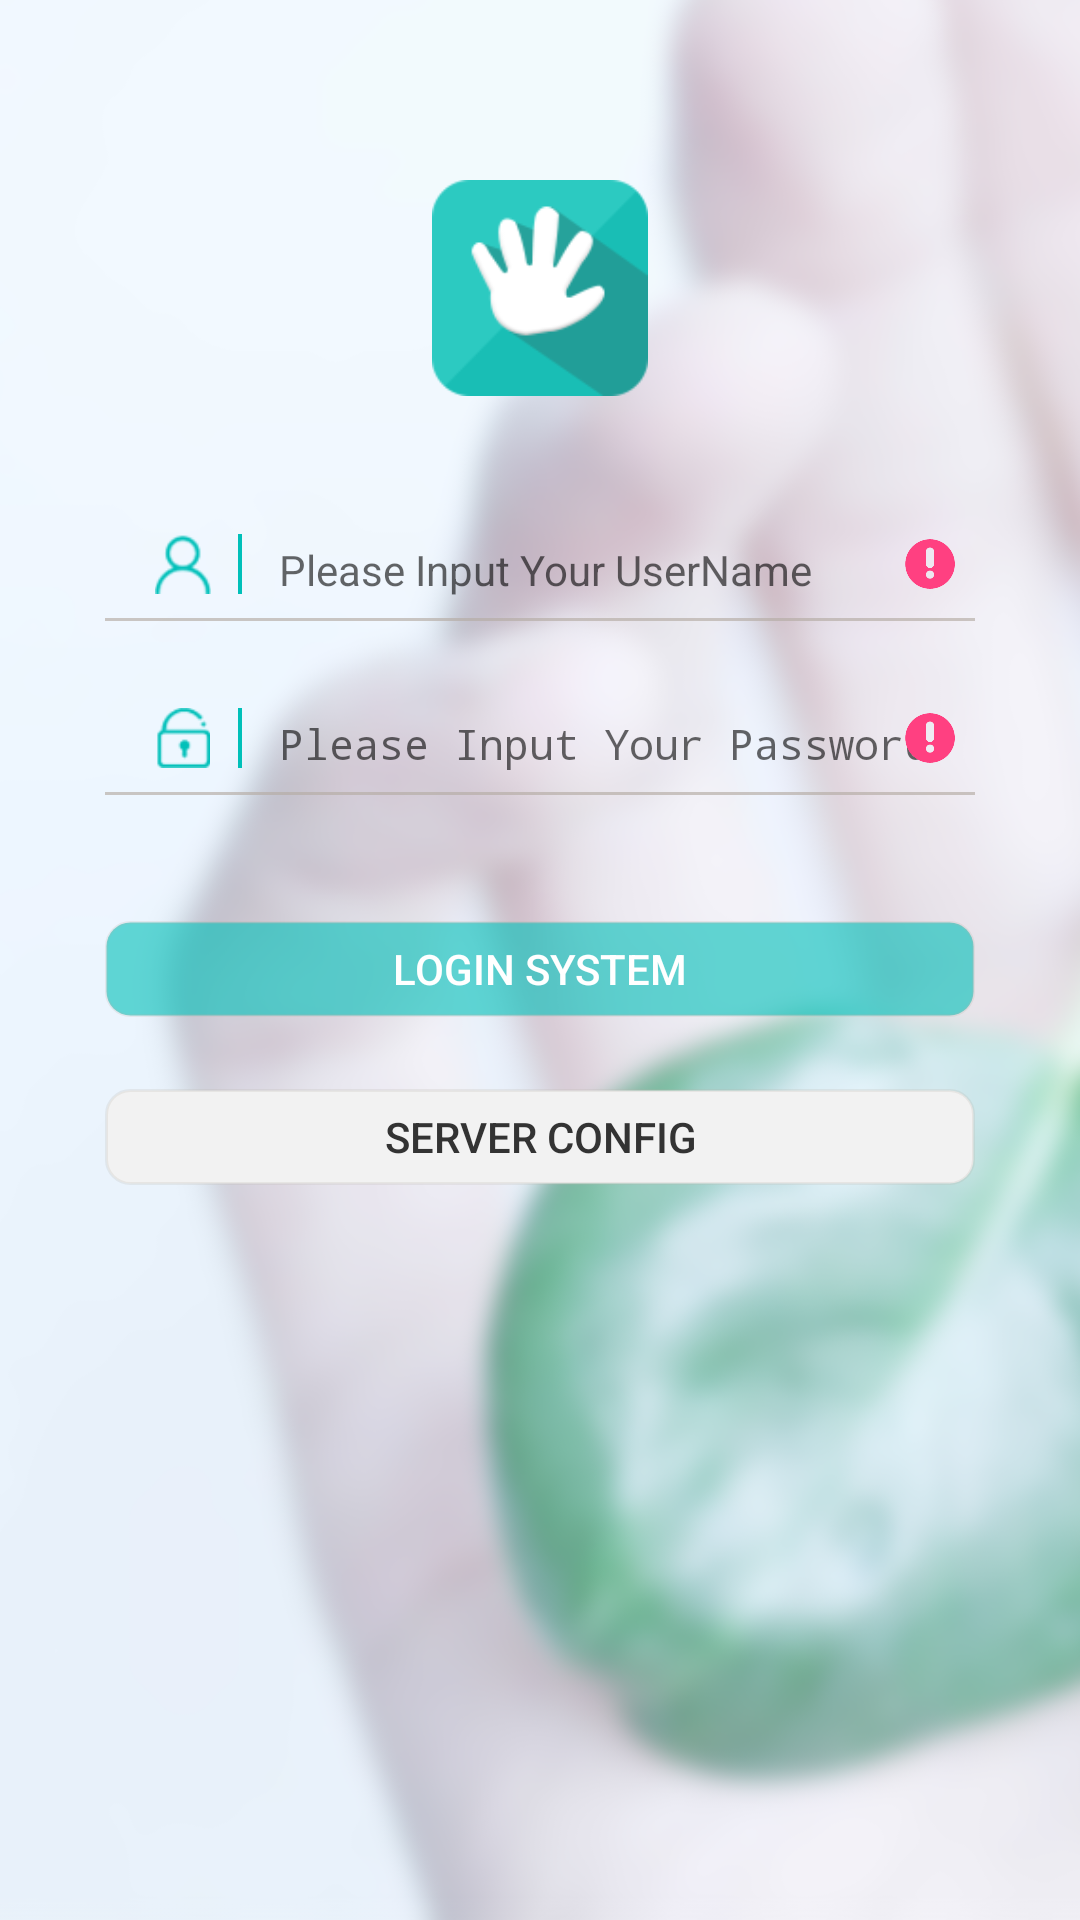

Screen size 1080 x 1920. Icon name, then its center in pixels as (x,y):
pwd login: (183,738)
username login: (183,564)
warnnig: (930,564), (930,738)
